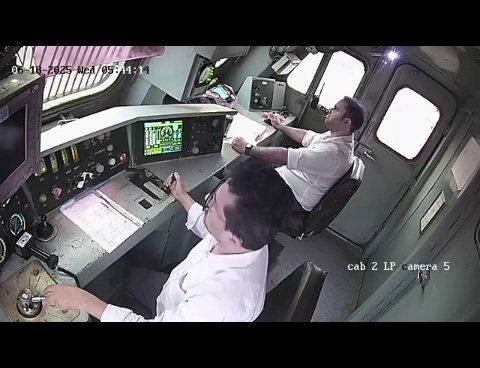brake_applied: (3, 251, 94, 322)
horn_inactive: (25, 210, 69, 248)
